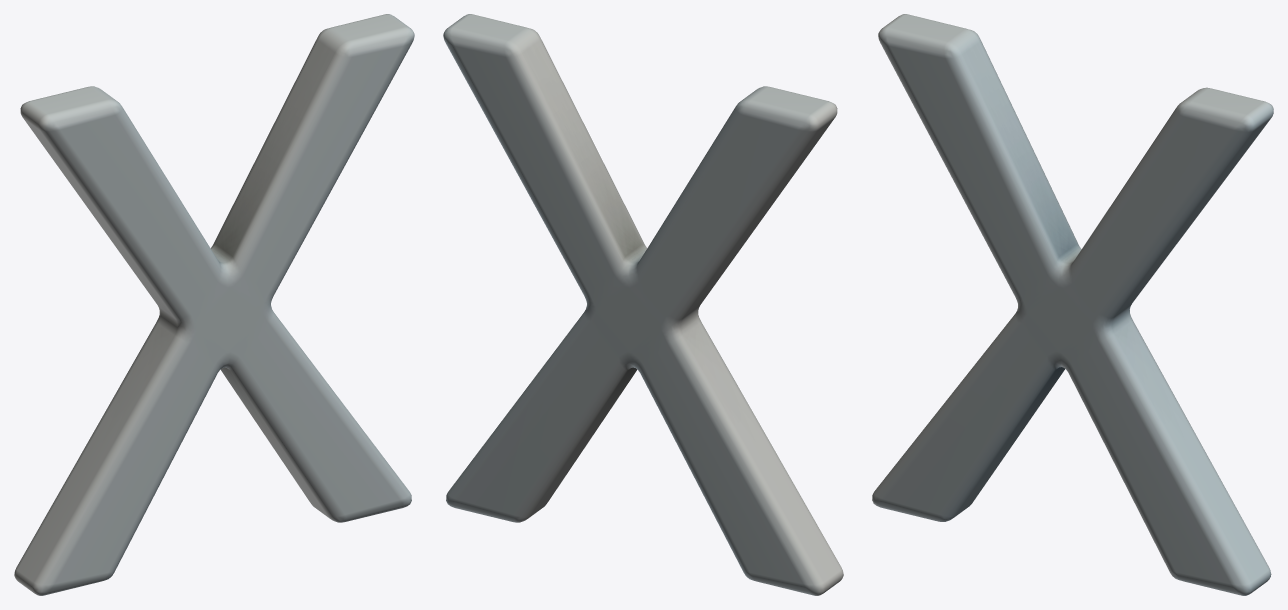
File: modelX.glb
3 renders of one model, left to right at view 1: azimuth 30°, elevation 25°; view 2: azimuth 150°, elevation 25°; view 3: azimuth 330°, elevation 25°, orthographic.
Visible parts, largest first — view 1: x.1; view 2: x.1; view 3: x.1.
Boxes of the visible parts, x1,y1,x2,y2 form: x.1: (14,14,414,595); x.1: (443,14,843,595); x.1: (872,14,1273,595).
Size of the model in its own units: 0.1701 by 0.2048 by 0.0217.
Materials: 1 (1 with a texture image).
